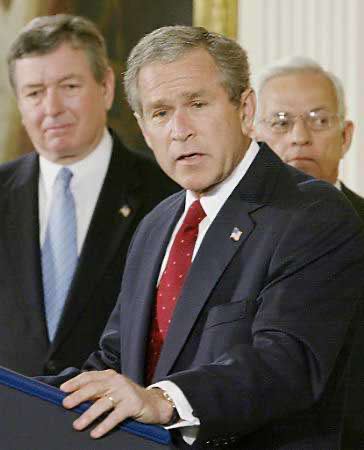Face: (136, 79, 236, 194), (255, 86, 346, 189), (13, 63, 102, 166)
